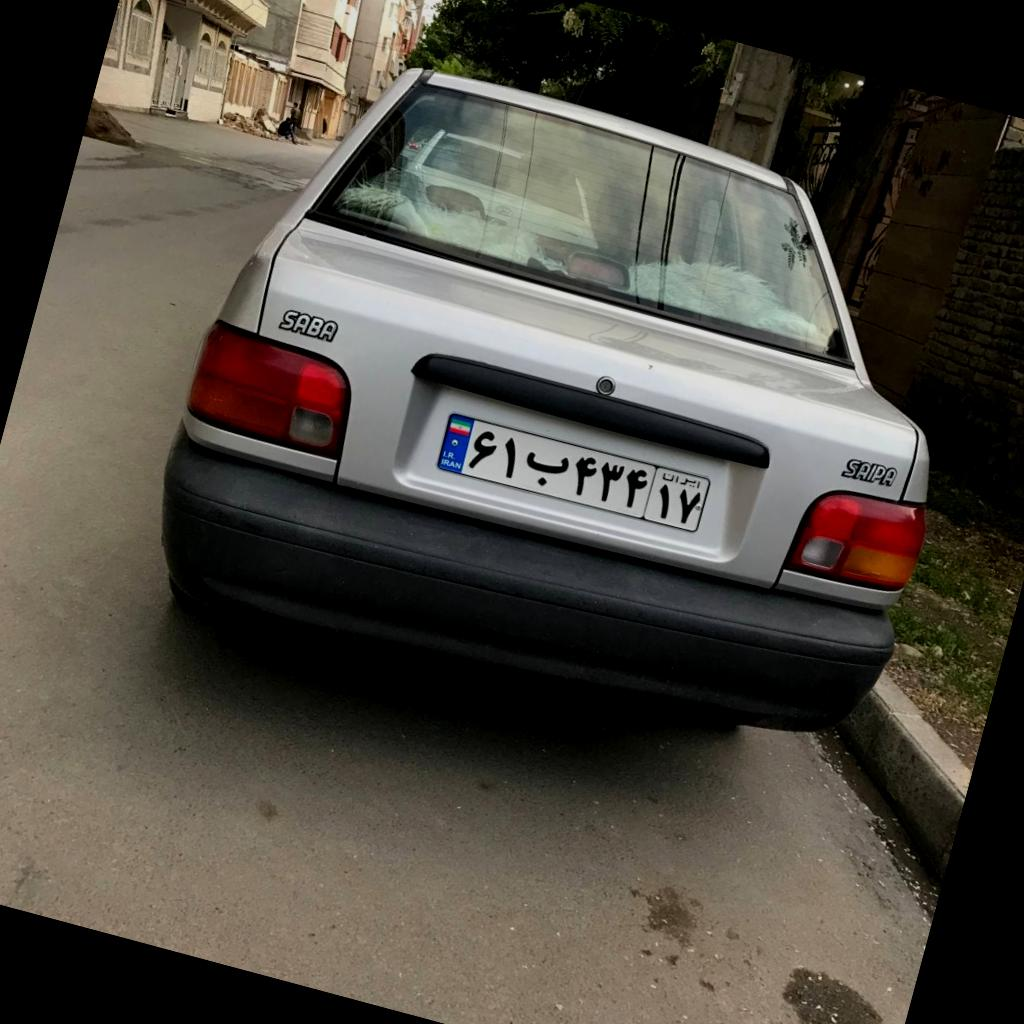Plates: (435, 412, 710, 532)
